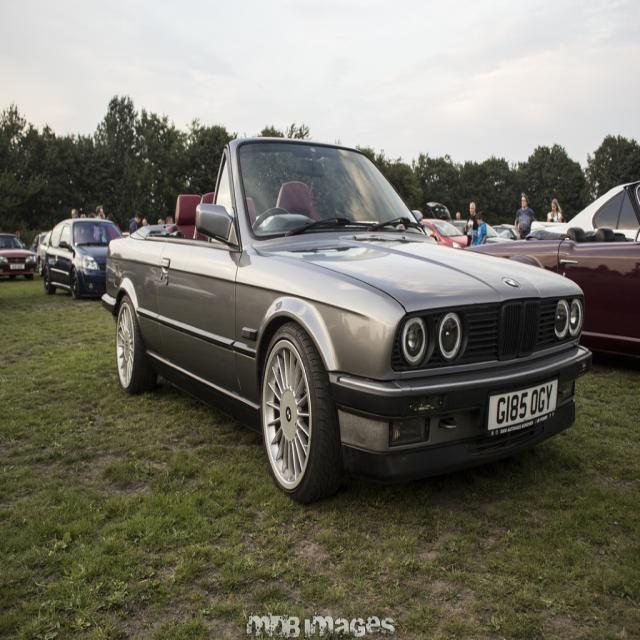car: (94, 156, 599, 495), (464, 176, 639, 351), (44, 214, 125, 300), (0, 225, 38, 279), (420, 212, 469, 251)
